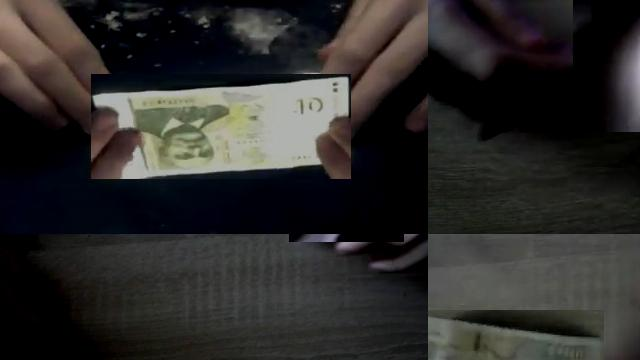10leva: (91, 74, 351, 179), (428, 314, 604, 360)
